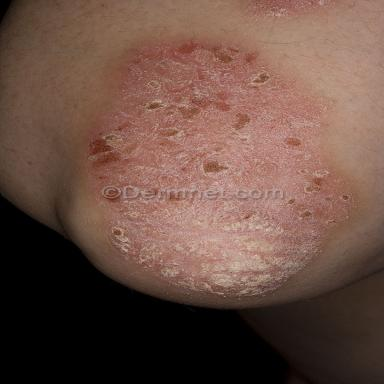Psoriasis: (88, 41, 352, 296)
